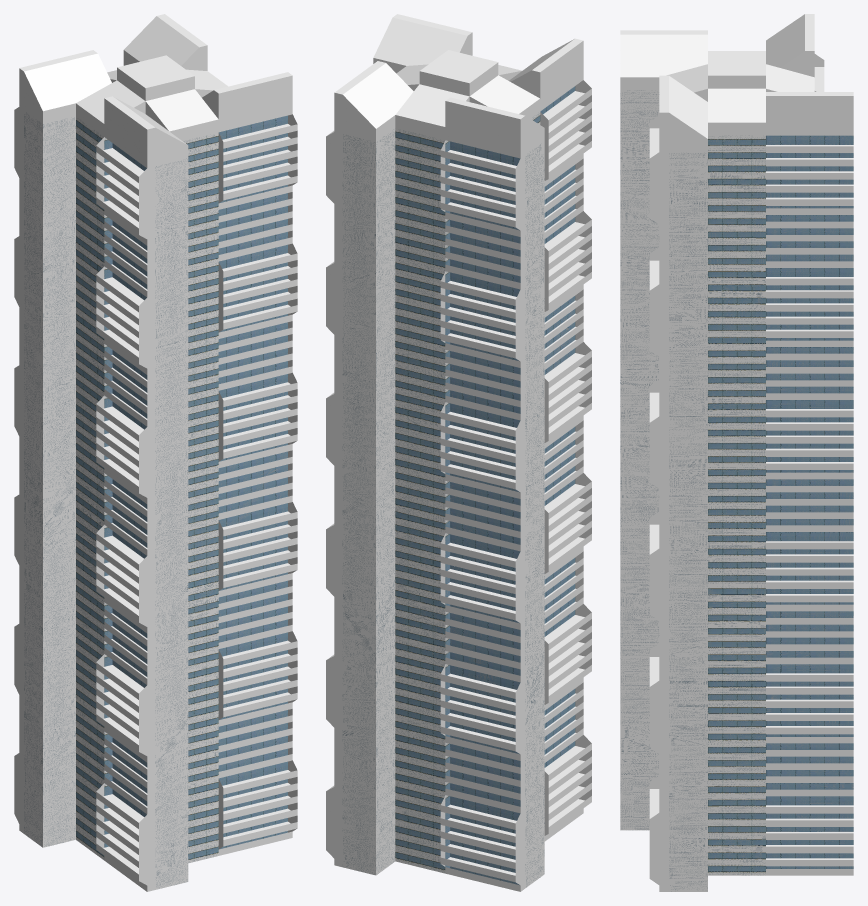
3 views of the same model, side by side, from view 1: azimuth 30°, elevation 25°; view 2: azimuth 150°, elevation 25°; view 3: azimuth 270°, elevation 25° (orthographic). The views are drawn at different scales.
Visible parts, largest first — view 1: SketchUp (×9); view 2: SketchUp (×8); view 3: SketchUp (×6).
Part boxes in pixels (x1=…): SketchUp (×9): x1=14, y1=16, x2=297, y2=891; SketchUp (×8): x1=326, y1=17, x2=591, y2=891; SketchUp (×6): x1=620, y1=14, x2=853, y2=891.
Size of the model in its own units: 1890 by 1890 by 6969.
